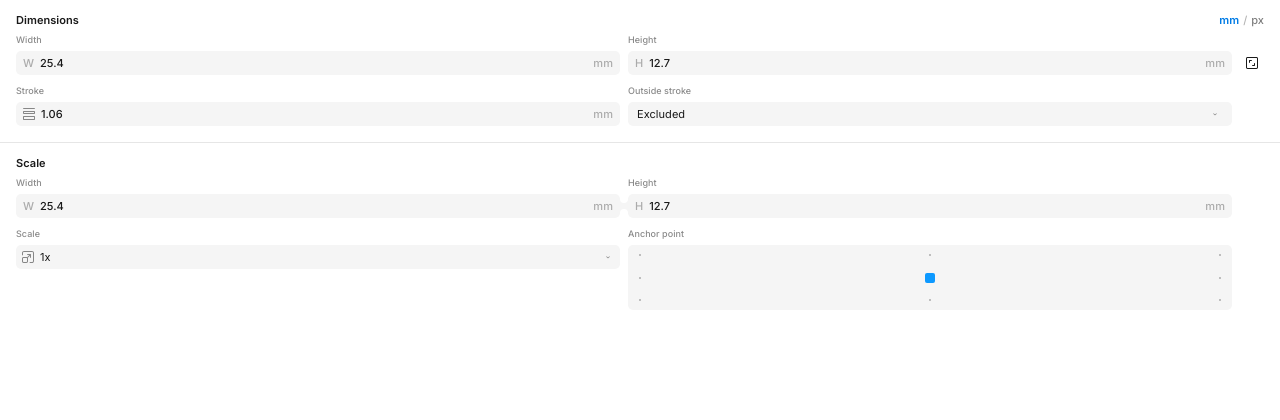
Test: PX to MM — Smart Print Size property panel › toggles outside-stroke calculation in the Width-sized Stroke slot without changing Auto Layout
Expected: the button with aria-label "Outside stroke" reads "Excluded", [628,102,1232,126]
Click the button "px". click: (1258, 20)
box: [1251,8,1264,32]
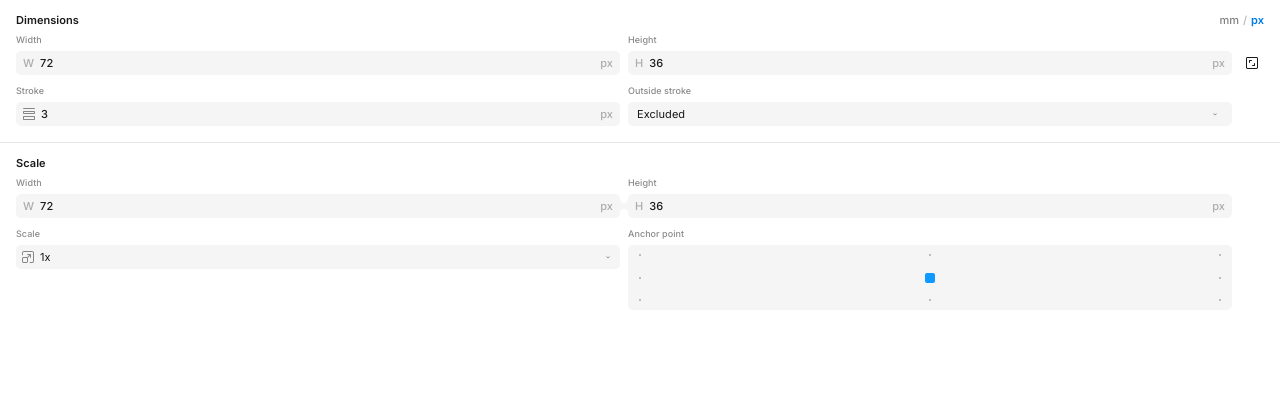
Expected: the number field named "Width in px" holds "72", [40,52,596,74]
Expected: the number field named "Scale width in px" holds "72", [40,195,596,217]
Click the button "Excluded". click: (661, 114)
box: [628,102,1232,126]
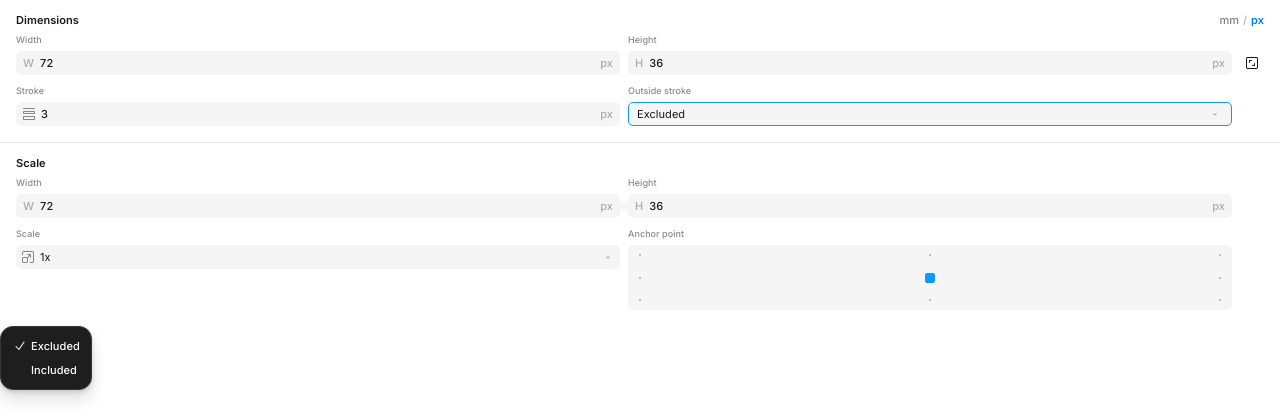
Expected: the options read "Excluded", "Included", in this order
Click the option "Included". click: (46, 370)
box: [8,358,84,382]
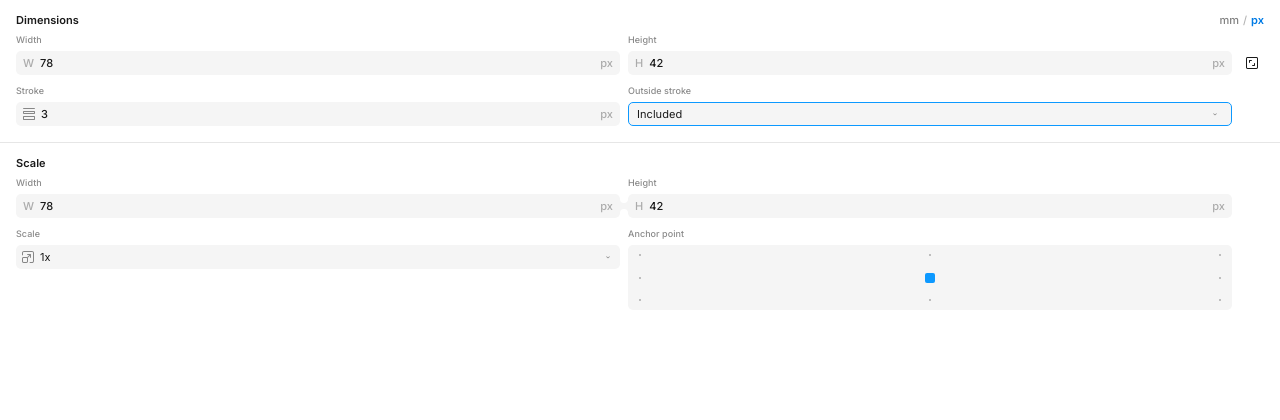
Expected: the number field named "Width in px" holds "78", [40,52,596,74]
Expected: the number field named "Scale width in px" holds "78", [40,195,596,217]
